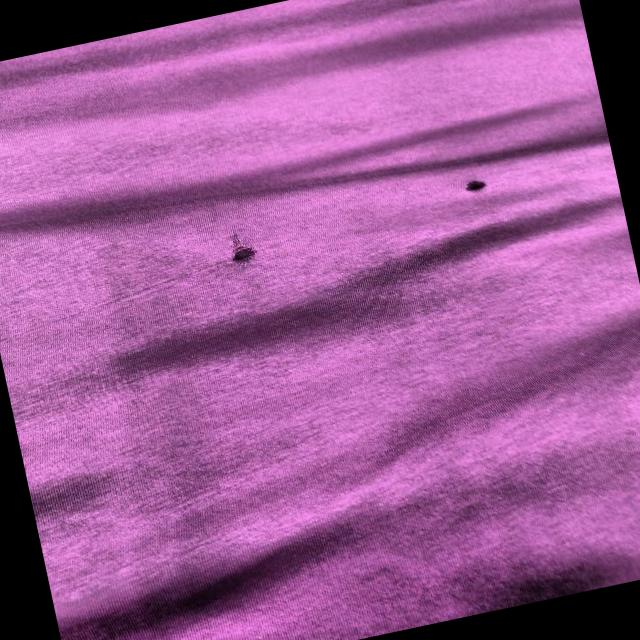cut: (210, 221, 270, 277), (456, 172, 494, 200)
